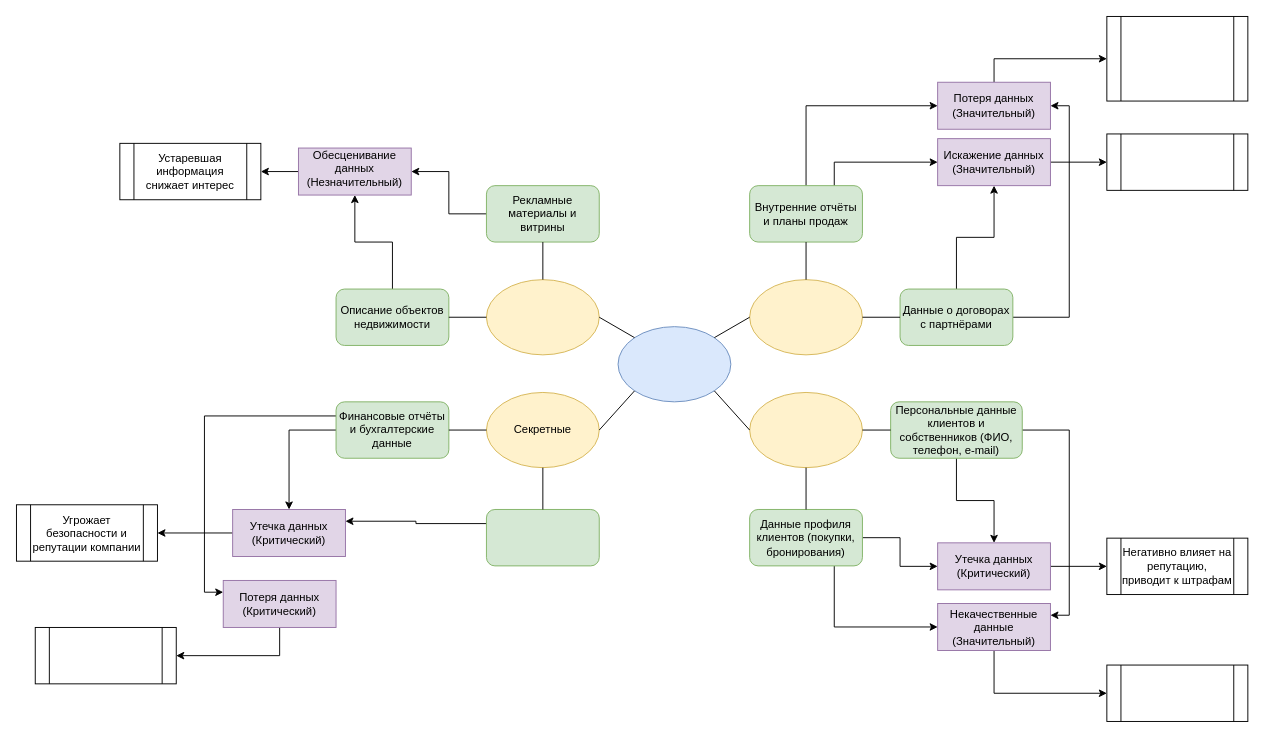
Image size: 1264x738. Some labels were removed from this diagram. Here are the shapes that lost their labels. From the top down, the centre of each, then its label:
(1177,58): Потеря данных дезорганизует работу и затрудняет управление
(1177,161): Приводит к неверным решениям
(542,317): Публичные
(805,317): Внутренние
(674,364): Безопасность данных
(805,430): Конфиденциальные
(542,537): Данные аутентификации (пароли, токены)
(105,655): Нарушает управление финансами
(1177,692): Усложняют обслуживание клиентов
